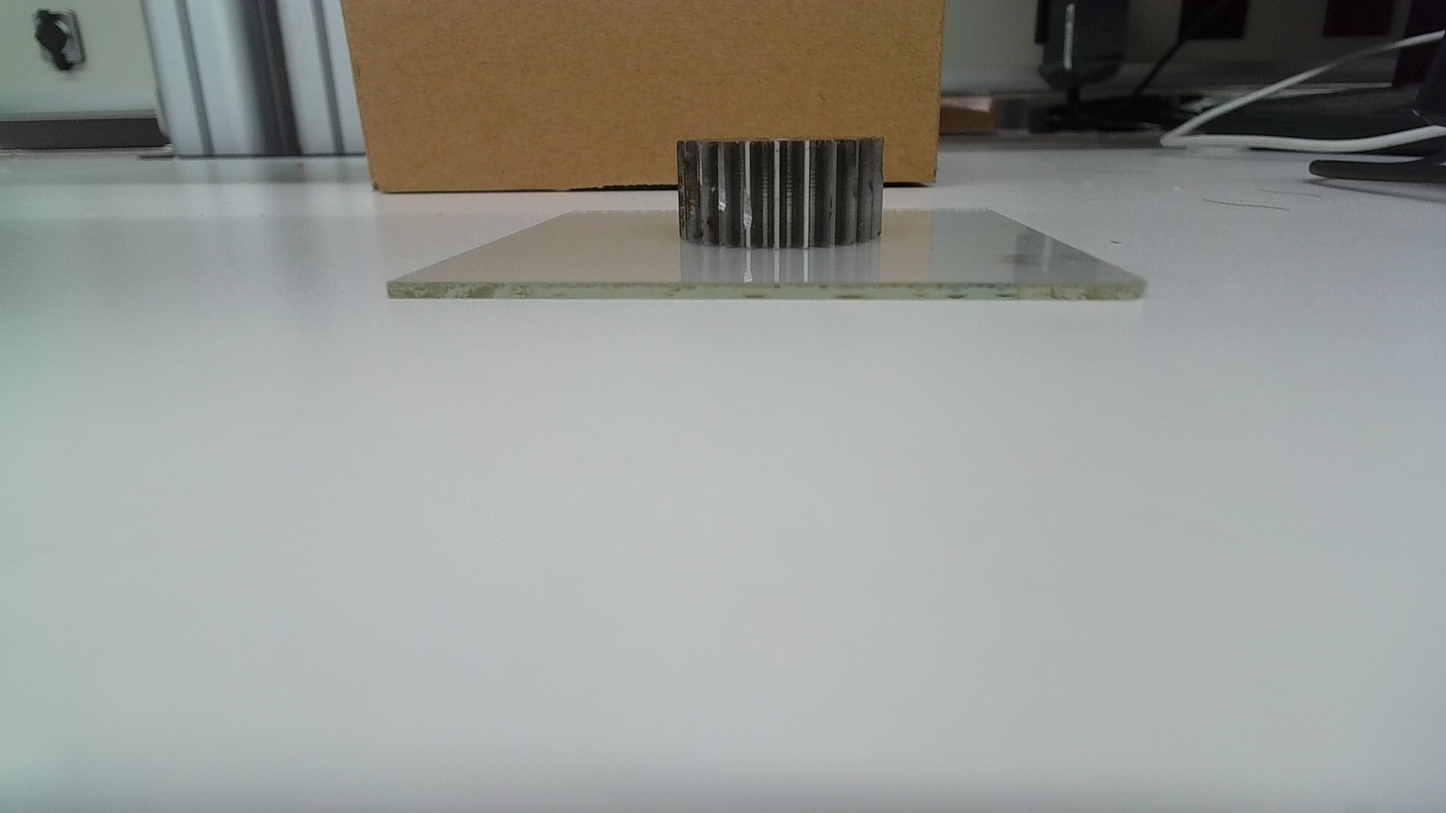gear: (674, 134, 888, 253)
